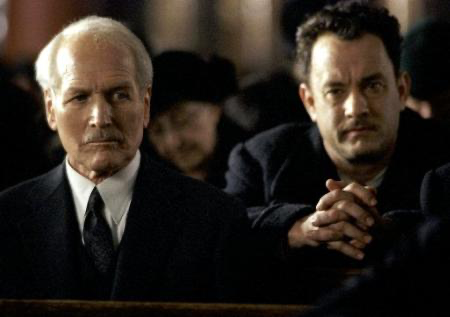Face: (47, 57, 146, 179), (308, 49, 405, 161), (146, 94, 223, 175)
